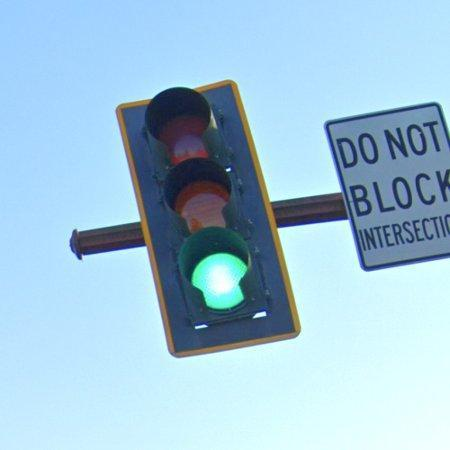traffic lights: (113, 78, 302, 356)
